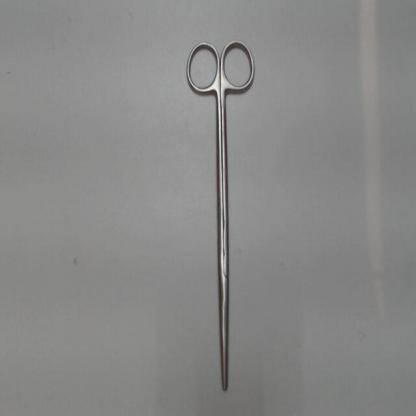9 Metzenbaum Scissors: (183, 34, 259, 398)
